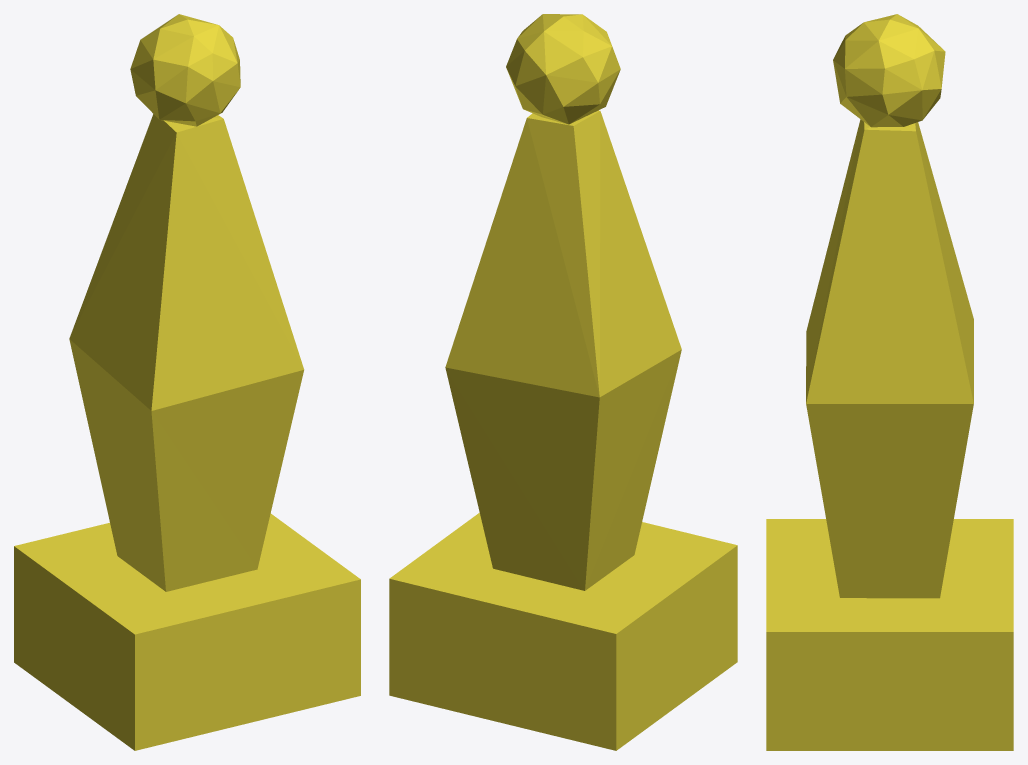
Rendered from MonumentoTelhado.Low.fbx.
3 renders of one model, left to right at view 1: azimuth 30°, elevation 25°; view 2: azimuth 150°, elevation 25°; view 3: azimuth 270°, elevation 25°, orthographic. The views are drawn at different scales.
Parts seen in each view (by area): view 1: MonumentoTelhado.Low; view 2: MonumentoTelhado.Low; view 3: MonumentoTelhado.Low.
Boxes of the visible parts, box(x1,y1,x2,y2) form: MonumentoTelhado.Low: box(14, 14, 360, 750); MonumentoTelhado.Low: box(389, 14, 737, 750); MonumentoTelhado.Low: box(766, 14, 1013, 750).
Bounding box in the file's own units: 33.75 × 94.09 × 31.25.
